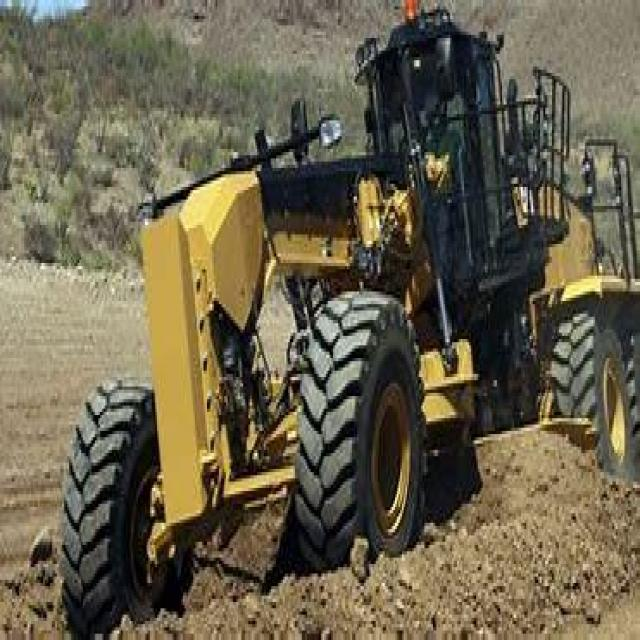Grader: (59, 9, 638, 612)
